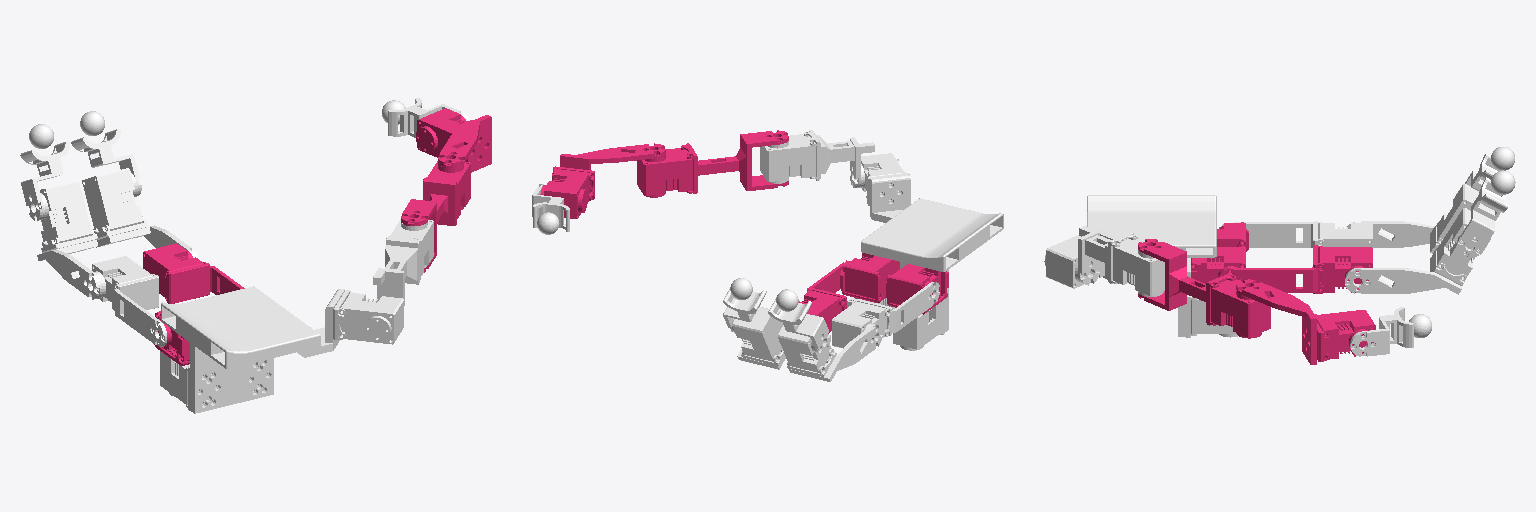
URDF robot description (EX12):
<?xml version="1.0" encoding="utf-8"?>
<!-- This URDF was automatically created by SolidWorks to URDF Exporter! Originally created by [author] ([email redacted]) 
     Commit Version: 1.6.0-4-g7f85cfe  Build Version: 1.6.7995.38578
     For more information, please see http://wiki.ros.org/sw_urdf_exporter -->
<robot name="EX12">
  <link name="base_link">
    <inertial>
      <origin xyz="0.0099830680106906 0.0397410314316151 -0.0211864454441244" rpy="0 0 0" />
      <mass value="0.104869110532873" />
      <inertia ixx="4.40259068004758E-05" ixy="6.98810794683233E-06" ixz="-2.53700810773619E-07" iyy="4.4848202374925E-05" iyz="7.20526256026947E-06" izz="5.64912491017328E-05" />
    </inertial>
    <visual>
      <origin xyz="0 0 0" rpy="0 0 0" />
      <geometry>
        <mesh filename="../meshes/base_link.STL" />
      </geometry>
      <material name="">
        <color rgba="1 1 1 1" />
      </material>
    </visual>
    <collision>
      <origin xyz="0 0 0" rpy="0 0 0" />
      <geometry>
        <mesh filename="../meshes/base_link.STL" />
      </geometry>
    </collision>
  </link>
  <link name="Link1">
    <inertial>
      <origin xyz="-6.11533704446138E-05 -0.0188411532343632 0.0393260340733817" rpy="0 0 0" />
      <mass value="0.0224844737579923" />
      <inertia ixx="3.66384482507874E-06" ixy="-7.26138376291842E-09" ixz="-2.993721669086E-08" iyy="3.0890668483123E-06" iyz="1.59144189071433E-07" izz="1.87360301190955E-06" />
    </inertial>
    <visual>
      <origin xyz="0 0 0" rpy="0 0 0" />
      <geometry>
        <mesh filename="../meshes/Link1.STL" />
      </geometry>
      <material name="">
        <color rgba="1 1 1 1" />
      </material>
    </visual>
    <collision>
      <origin xyz="0 0 0" rpy="0 0 0" />
      <geometry>
        <mesh filename="../meshes/Link1.STL" />
      </geometry>
    </collision>
  </link>
  <joint name="joint1" type="revolute">
    <origin xyz="0.0751385389055488 -0.00636396103067887 0.0048" rpy="-1.5707963267949 0 -0.785398163397448" />
    <parent link="base_link" />
    <child link="Link1" />
    <axis xyz="0 0 1" />
    <limit lower="-3.1415" upper="3.1415" effort="1" velocity="10" />
  </joint>
  <link name="Link2">
    <inertial>
      <origin xyz="0.0623485476421456 -1.24857717903604E-06 -0.000186469877417821" rpy="0 0 0" />
      <mass value="0.0238979446909479" />
      <inertia ixx="2.37758517956826E-06" ixy="3.66189662653239E-10" ixz="-1.17278836726381E-08" iyy="6.56694394504642E-06" iyz="-3.27736783193466E-18" izz="5.48558769195582E-06" />
    </inertial>
    <visual>
      <origin xyz="0 0 0" rpy="0 0 0" />
      <geometry>
        <mesh filename="../meshes/Link2.STL" />
      </geometry>
      <material name="">
        <color rgba="1 0.247058823529412 0.549019607843137 1" />
      </material>
    </visual>
    <collision>
      <origin xyz="0 0 0" rpy="0 0 0" />
      <geometry>
        <mesh filename="../meshes/Link2.STL" />
      </geometry>
    </collision>
  </link>
  <joint name="joint2" type="revolute">
    <origin xyz="0 -0.0192 0.0555" rpy="-1.63723082087563 -1.57079630572147 0.0664344940807344" />
    <parent link="Link1" />
    <child link="Link2" />
    <axis xyz="0 0 -1" />
    <limit lower="-3.1415" upper="3.1415" effort="1" velocity="10" />
  </joint>
  <link name="Link3">
    <inertial>
      <origin xyz="-0.0598563442331908 0.0010299196619141 -0.00207863754642873" rpy="0 0 0" />
      <mass value="0.021951062818985" />
      <inertia ixx="2.42271216691168E-06" ixy="-1.56454736211242E-07" ixz="5.27016818786158E-07" iyy="3.9839275502221E-06" iyz="1.35447847801436E-07" izz="4.48252496710446E-06" />
    </inertial>
    <visual>
      <origin xyz="0 0 0" rpy="0 0 0" />
      <geometry>
        <mesh filename="../meshes/Link3.STL" />
      </geometry>
      <material name="">
        <color rgba="1 0.247058823529412 0.549019607843137 1" />
      </material>
    </visual>
    <collision>
      <origin xyz="0 0 0" rpy="0 0 0" />
      <geometry>
        <mesh filename="../meshes/Link3.STL" />
      </geometry>
    </collision>
  </link>
  <joint name="joint3" type="revolute">
    <origin xyz="0.085 0 0" rpy="0 0 2.94060183304342" />
    <parent link="Link2" />
    <child link="Link3" />
    <axis xyz="0 0 -1" />
    <limit lower="-3.1415" upper="3.1415" effort="1" velocity="10" />
  </joint>
  <link name="Link4">
    <inertial>
      <origin xyz="1.17961196366423E-15 -0.0186708302285739 -0.000800270321570207" rpy="0 0 0" />
      <mass value="0.00344356132156391" />
      <inertia ixx="5.65928320042671E-07" ixy="1.30418270525129E-21" ixz="1.12348242789782E-21" iyy="3.30892112665283E-07" iyz="-1.90543744421633E-07" izz="3.92761434396662E-07" />
    </inertial>
    <visual>
      <origin xyz="0 0 0" rpy="0 0 0" />
      <geometry>
        <mesh filename="../meshes/Link4.STL" />
      </geometry>
      <material name="">
        <color rgba="1 1 1 1" />
      </material>
    </visual>
    <collision>
      <origin xyz="0 0 0" rpy="0 0 0" />
      <geometry>
        <mesh filename="../meshes/Link4.STL" />
      </geometry>
    </collision>
  </link>
  <joint name="joint4" type="revolute">
    <origin xyz="-0.0766132032286162 0.00563403969797617 0" rpy="2.41700305744513 1.5707963267949 0" />
    <parent link="Link3" />
    <child link="Link4" />
    <axis xyz="0 0 1" />
    <limit lower="-3.1415" upper="3.1415" effort="1" velocity="10" />
  </joint>
  <link name="Link13">
    <inertial>
      <origin xyz="5.05151476204446E-15 -2.33146835171283E-15 1.47104550762833E-15" rpy="0 0 0" />
      <mass value="0.00176714586764426" />
      <inertia ixx="3.97607820219958E-08" ixy="-2.91793189230959E-25" ixz="-1.63057611416779E-35" iyy="3.97607820219958E-08" iyz="1.08898700751272E-24" izz="3.97607820219958E-08" />
    </inertial>
    <visual>
      <origin xyz="0 0 0" rpy="0 0 0" />
      <geometry>
        <mesh filename="../meshes/Link13.STL" />
      </geometry>
      <material name="">
        <color rgba="1 1 1 1" />
      </material>
    </visual>
    <collision>
      <origin xyz="0 0 0" rpy="0 0 0" />
      <geometry>
        <mesh filename="../meshes/Link13.STL" />
      </geometry>
    </collision>
  </link>
  <joint name="joint13" type="fixed">
    <origin xyz="0 -0.0404999999999942 -0.00600000000019235" rpy="3.14159265358979 -0.26179938779915 -1.57079632679494" />
    <parent link="Link4" />
    <child link="Link13" />
    <axis xyz="0 0 0" />
    <limit lower="-3.1415" upper="3.1415" effort="1" velocity="10" />
  </joint>
  <link name="Link5">
    <inertial>
      <origin xyz="-0.00689820628028456 -0.000244023946114152 0.0118526388960072" rpy="0 0 0" />
      <mass value="0.017883193977129" />
      <inertia ixx="1.56664951849998E-06" ixy="-3.22396585519129E-08" ixz="-1.7418978736825E-08" iyy="2.38300025887913E-06" iyz="5.18996109009343E-09" izz="2.83801699056717E-06" />
    </inertial>
    <visual>
      <origin xyz="0 0 0" rpy="0 0 0" />
      <geometry>
        <mesh filename="../meshes/Link5.STL" />
      </geometry>
      <material name="">
        <color rgba="1 0.247058823529412 0.549019607843137 1" />
      </material>
    </visual>
    <collision>
      <origin xyz="0 0 0" rpy="0 0 0" />
      <geometry>
        <mesh filename="../meshes/Link5.STL" />
      </geometry>
    </collision>
  </link>
  <joint name="joint5" type="revolute">
    <origin xyz="0.0175 0.0814594408408979 -0.034" rpy="0 0 1.5707963267949" />
    <parent link="base_link" />
    <child link="Link5" />
    <axis xyz="0 0 1" />
    <limit lower="-3.1415" upper="3.1415" effort="1" velocity="10" />
  </joint>
  <link name="Link6">
    <inertial>
      <origin xyz="0.0639595251892782 -7.07368191799063E-14 -0.00184921737622272" rpy="0 0 0" />
      <mass value="0.019271964232175" />
      <inertia ixx="1.69605890408573E-06" ixy="1.34105490921996E-17" ixz="-3.73411192447686E-07" iyy="3.98078185025325E-06" iyz="-2.92689496923432E-18" izz="3.44528581544645E-06" />
    </inertial>
    <visual>
      <origin xyz="0 0 0" rpy="0 0 0" />
      <geometry>
        <mesh filename="../meshes/Link6.STL" />
      </geometry>
      <material name="">
        <color rgba="1 0.247058823529412 0.549019607843137 1" />
      </material>
    </visual>
    <collision>
      <origin xyz="0 0 0" rpy="0 0 0" />
      <geometry>
        <mesh filename="../meshes/Link6.STL" />
      </geometry>
    </collision>
  </link>
  <joint name="joint6" type="revolute">
    <origin xyz="0 0 0.013" rpy="-1.5707963267949 0 0" />
    <parent link="Link5" />
    <child link="Link6" />
    <axis xyz="0 0 -1" />
    <limit lower="-3.1415" upper="3.1415" effort="1" velocity="10" />
  </joint>
  <link name="Link7">
    <inertial>
      <origin xyz="0.0592592780209977 0.00725619120184918 -0.00225468965197092" rpy="0 0 0" />
      <mass value="0.0213744172444923" />
      <inertia ixx="2.55827966511078E-06" ixy="-1.59706584311048E-07" ixz="-4.56343998869054E-07" iyy="4.01878347253575E-06" iyz="-2.44288739356747E-07" izz="4.02098718377973E-06" />
    </inertial>
    <visual>
      <origin xyz="0 0 0" rpy="0 0 0" />
      <geometry>
        <mesh filename="../meshes/Link7.STL" />
      </geometry>
      <material name="">
        <color rgba="1 1 1 1" />
      </material>
    </visual>
    <collision>
      <origin xyz="0 0 0" rpy="0 0 0" />
      <geometry>
        <mesh filename="../meshes/Link7.STL" />
      </geometry>
    </collision>
  </link>
  <joint name="joint7" type="revolute">
    <origin xyz="0.0779999999999999 0 0" rpy="0 0 -0.333473313112389" />
    <parent link="Link6" />
    <child link="Link7" />
    <axis xyz="0 0 -1" />
    <limit lower="-3.1415" upper="3.1415" effort="1" velocity="10" />
  </joint>
  <link name="Link8">
    <inertial>
      <origin xyz="0.018670830228574 -2.692290834716E-15 -0.00519972967862261" rpy="0 0 0" />
      <mass value="0.00344356132156391" />
      <inertia ixx="3.30892112665283E-07" ixy="3.15987484204477E-22" ixz="-1.90543744421633E-07" iyy="5.6592832004267E-07" iyz="1.01163088230472E-22" izz="3.92761434396662E-07" />
    </inertial>
    <visual>
      <origin xyz="0 0 0" rpy="0 0 0" />
      <geometry>
        <mesh filename="../meshes/Link8.STL" />
      </geometry>
      <material name="">
        <color rgba="1 1 1 1" />
      </material>
    </visual>
    <collision>
      <origin xyz="0 0 0" rpy="0 0 0" />
      <geometry>
        <mesh filename="../meshes/Link8.STL" />
      </geometry>
    </collision>
  </link>
  <joint name="joint8" type="revolute">
    <origin xyz="0.0727581521785942 0 0" rpy="0 0 -0.713724238084215" />
    <parent link="Link7" />
    <child link="Link8" />
    <axis xyz="0 0 -1" />
    <limit lower="-3.1415" upper="3.1415" effort="1" velocity="10" />
  </joint>
  <link name="Link14">
    <inertial>
      <origin xyz="-3.10862446895044E-15 -3.91353616180368E-15 -1.30104260698261E-15" rpy="0 0 0" />
      <mass value="0.00176714586764426" />
      <inertia ixx="3.97607820219958E-08" ixy="2.47534829512641E-24" ixz="1.1466146503951E-38" iyy="3.97607820219958E-08" iyz="5.8400508238893E-39" izz="3.97607820219958E-08" />
    </inertial>
    <visual>
      <origin xyz="0 0 0" rpy="0 0 0" />
      <geometry>
        <mesh filename="../meshes/Link14.STL" />
      </geometry>
      <material name="">
        <color rgba="1 1 1 1" />
      </material>
    </visual>
    <collision>
      <origin xyz="0 0 0" rpy="0 0 0" />
      <geometry>
        <mesh filename="../meshes/Link14.STL" />
      </geometry>
    </collision>
  </link>
  <joint name="joint14" type="fixed">
    <origin xyz="0.0405 0 0" rpy="0 0 1.0471975511966" />
    <parent link="Link8" />
    <child link="Link14" />
    <axis xyz="0 0 0" />
  </joint>
  <link name="Link9">
    <inertial>
      <origin xyz="-0.00689820627753126 -0.000244023939907016 -0.0118526389187708" rpy="0 0 0" />
      <mass value="0.0178831939273071" />
      <inertia ixx="1.56664951631453E-06" ixy="-3.22396340642811E-08" ixz="1.74189788221192E-08" iyy="2.38300025260992E-06" iyz="-5.18996030028327E-09" izz="2.83801698302306E-06" />
    </inertial>
    <visual>
      <origin xyz="0 0 0" rpy="0 0 0" />
      <geometry>
        <mesh filename="../meshes/Link9.STL" />
      </geometry>
      <material name="">
        <color rgba="1 0.247058823529412 0.549019607843137 1" />
      </material>
    </visual>
    <collision>
      <origin xyz="0 0 0" rpy="0 0 0" />
      <geometry>
        <mesh filename="../meshes/Link9.STL" />
      </geometry>
    </collision>
  </link>
  <joint name="joint9" type="revolute">
    <origin xyz="-0.0175 0.0814594408408979 -0.034" rpy="3.14159265358979 0 1.5707963267949" />
    <parent link="base_link" />
    <child link="Link9" />
    <axis xyz="0 0 -1" />
    <limit lower="-3.1415" upper="3.1415" effort="1" velocity="10" />
  </joint>
  <link name="Link10">
    <inertial>
      <origin xyz="0.0639595251892795 7.14046877181573E-14 0.00184921737622095" rpy="0 0 0" />
      <mass value="0.0192719642321749" />
      <inertia ixx="1.69605890408573E-06" ixy="-1.34053540067626E-17" ixz="3.7341119244769E-07" iyy="3.98078185025325E-06" iyz="-2.93123137128245E-18" izz="3.44528581544645E-06" />
    </inertial>
    <visual>
      <origin xyz="0 0 0" rpy="0 0 0" />
      <geometry>
        <mesh filename="../meshes/Link10.STL" />
      </geometry>
      <material name="">
        <color rgba="1 1 1 1" />
      </material>
    </visual>
    <collision>
      <origin xyz="0 0 0" rpy="0 0 0" />
      <geometry>
        <mesh filename="../meshes/Link10.STL" />
      </geometry>
    </collision>
  </link>
  <joint name="joint10" type="revolute">
    <origin xyz="0 0 -0.013" rpy="1.5707963267949 0 0" />
    <parent link="Link9" />
    <child link="Link10" />
    <axis xyz="0 0 1" />
    <limit lower="-3.1415" upper="3.1415" effort="1" velocity="10" />
  </joint>
  <link name="Link11">
    <inertial>
      <origin xyz="0.0592592780209985 0.00725619120184597 0.00225468965187476" rpy="0 0 0" />
      <mass value="0.0213744172444923" />
      <inertia ixx="2.55827966511078E-06" ixy="-1.59706584311051E-07" ixz="4.56343998870036E-07" iyy="4.01878347253575E-06" iyz="2.44288739352562E-07" izz="4.02098718377974E-06" />
    </inertial>
    <visual>
      <origin xyz="0 0 0" rpy="0 0 0" />
      <geometry>
        <mesh filename="../meshes/Link11.STL" />
      </geometry>
      <material name="">
        <color rgba="1 1 1 1" />
      </material>
    </visual>
    <collision>
      <origin xyz="0 0 0" rpy="0 0 0" />
      <geometry>
        <mesh filename="../meshes/Link11.STL" />
      </geometry>
    </collision>
  </link>
  <joint name="joint11" type="revolute">
    <origin xyz="0.0780000000000002 0 0" rpy="0 0 -0.333473313112389" />
    <parent link="Link10" />
    <child link="Link11" />
    <axis xyz="0 0 1" />
    <limit lower="-3.1415" upper="3.1415" effort="1" velocity="10" />
  </joint>
  <link name="Link12">
    <inertial>
      <origin xyz="0.0186708302285719 -3.05311331771918E-16 0.00519972967862124" rpy="0 0 0" />
      <mass value="0.00344356132156391" />
      <inertia ixx="3.30892112665283E-07" ixy="-2.62065201294726E-22" ixz="1.90543744421633E-07" iyy="5.65928320042669E-07" iyz="2.24555406709468E-22" izz="3.92761434396661E-07" />
    </inertial>
    <visual>
      <origin xyz="0 0 0" rpy="0 0 0" />
      <geometry>
        <mesh filename="../meshes/Link12.STL" />
      </geometry>
      <material name="">
        <color rgba="1 1 1 1" />
      </material>
    </visual>
    <collision>
      <origin xyz="0 0 0" rpy="0 0 0" />
      <geometry>
        <mesh filename="../meshes/Link12.STL" />
      </geometry>
    </collision>
  </link>
  <joint name="joint12" type="revolute">
    <origin xyz="0.0727581521785949 0 0" rpy="0 0 -0.713724238084212" />
    <parent link="Link11" />
    <child link="Link12" />
    <axis xyz="0 0 1" />
    <limit lower="-3.1415" upper="3.1415" effort="1" velocity="10" />
  </joint>
  <link name="Link15">
    <inertial>
      <origin xyz="5.55111512312578E-17 9.15933995315754E-16 8.91647866652079E-16" rpy="0 0 0" />
      <mass value="0.00176714586764426" />
      <inertia ixx="3.97607820219958E-08" ixy="2.94476933593817E-24" ixz="-2.12249697306678E-27" iyy="3.97607820219958E-08" iyz="1.29781957980132E-26" izz="3.97607820219958E-08" />
    </inertial>
    <visual>
      <origin xyz="0 0 0" rpy="0 0 0" />
      <geometry>
        <mesh filename="../meshes/Link15.STL" />
      </geometry>
      <material name="">
        <color rgba="1 1 1 1" />
      </material>
    </visual>
    <collision>
      <origin xyz="0 0 0" rpy="0 0 0" />
      <geometry>
        <mesh filename="../meshes/Link15.STL" />
      </geometry>
    </collision>
  </link>
  <joint name="joint15" type="fixed">
    <origin xyz="0.040224 0 0.00020018" rpy="0 0 1.0472" />
    <parent link="Link12" />
    <child link="Link15" />
    <axis xyz="0 0 0" />
  </joint>
</robot>

--- What the picture shows (computed from the rendered views, not written in the file) ---
Views: 3 orthographic renders of the robot side by side, from view 1: azimuth 30°, elevation 25°; view 2: azimuth 150°, elevation 25°; view 3: azimuth 270°, elevation 25°.
Model EX12 with 16 links and 15 joints (12 revolute, 3 fixed), rooted at base_link, posed every joint at zero.
Visible links, largest first — view 1: base_link, Link11, Link7, Link10, Link3, Link6, Link1, Link2, Link12, Link8, Link4, Link9; view 2: base_link, Link2, Link1, Link3, Link10, Link11, Link7, Link5, Link9, Link6, Link12, Link8 (+1 smaller); view 3: base_link, Link2, Link7, Link3, Link1, Link6, Link10, Link11, Link8, Link4, Link5, Link9 (+1 smaller).
Boxes of the visible links, x1,y1,x2,y2 form: base_link: (160,286,403,413); Link11: (37,180,101,299); Link7: (82,168,198,258); Link10: (92,256,166,346); Link3: (416,108,491,172); Link6: (143,243,244,303); Link1: (373,219,433,305); Link2: (401,161,470,272); Link12: (20,141,69,220); Link8: (71,129,141,196); Link4: (388,98,469,137); Link9: (154,311,189,365); base_link: (847,153,1003,350); Link2: (637,130,788,197); Link1: (760,130,874,187); Link3: (540,143,665,218); Link10: (832,282,939,348); Link11: (778,324,882,381); Link7: (732,307,785,369); Link5: (840,253,899,302); Link9: (886,264,948,314); Link6: (798,260,848,333); Link12: (768,297,830,353); Link8: (723,289,766,332); base_link: (1044,195,1237,337); Link2: (1138,239,1270,338); Link7: (1345,208,1490,294); Link3: (1236,279,1375,364); Link1: (1078,226,1164,296); Link6: (1218,245,1372,293); Link10: (1220,221,1372,247); Link11: (1347,184,1478,253); Link8: (1457,177,1508,257); Link4: (1350,307,1413,356); Link5: (1191,246,1245,297); Link9: (1217,222,1248,251).
Size in the robot's own frame: 0.2644 by 0.2885 by 0.1084 metres.
Meshes: 16 distinct files referenced, 16 mesh visuals loaded (16 binary STL).